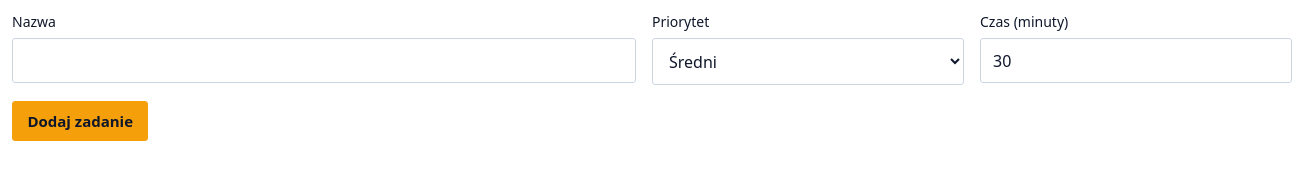
Test: TaskForm › rejects invalid duration
Type "Poprawne zadanie" into the field labelled "Nazwa" at point(324, 61), box x1=12 y1=38 x2=636 y2=83
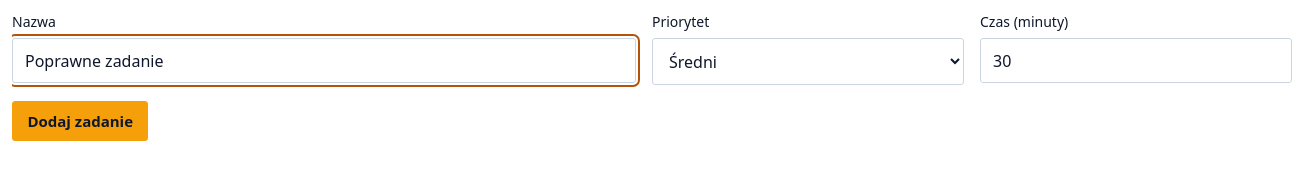
Clear the number field labelled "Czas (minuty)" at point(1136, 61), box x1=980 y1=38 x2=1292 y2=83
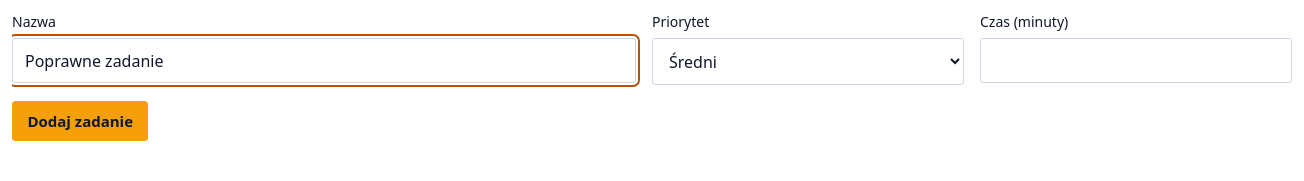
Click the button "Dodaj zadanie" at point(80, 121), box x1=12 y1=101 x2=148 y2=141
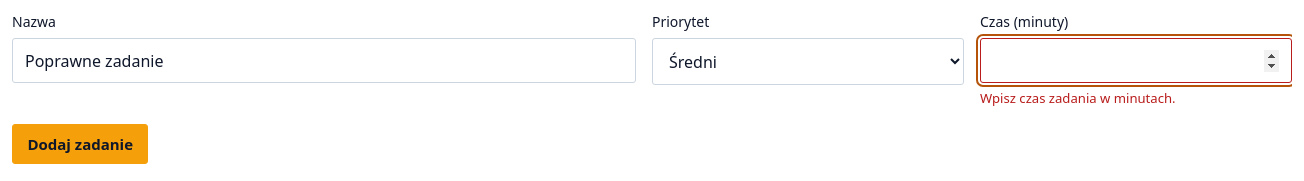
Expected: the text "Wpisz czas zadania w minutach." is shown, x1=980 y1=89 x2=1176 y2=107
